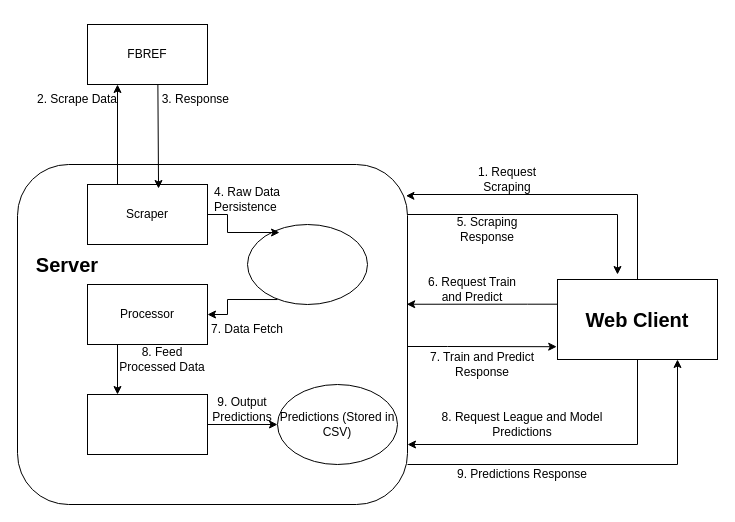
Some shapes in this 735 by 522 pixel diagram are drawn without their labels. Each missing label, with the centre of its shape:
DB: [307,264]
Model: [147,424]
